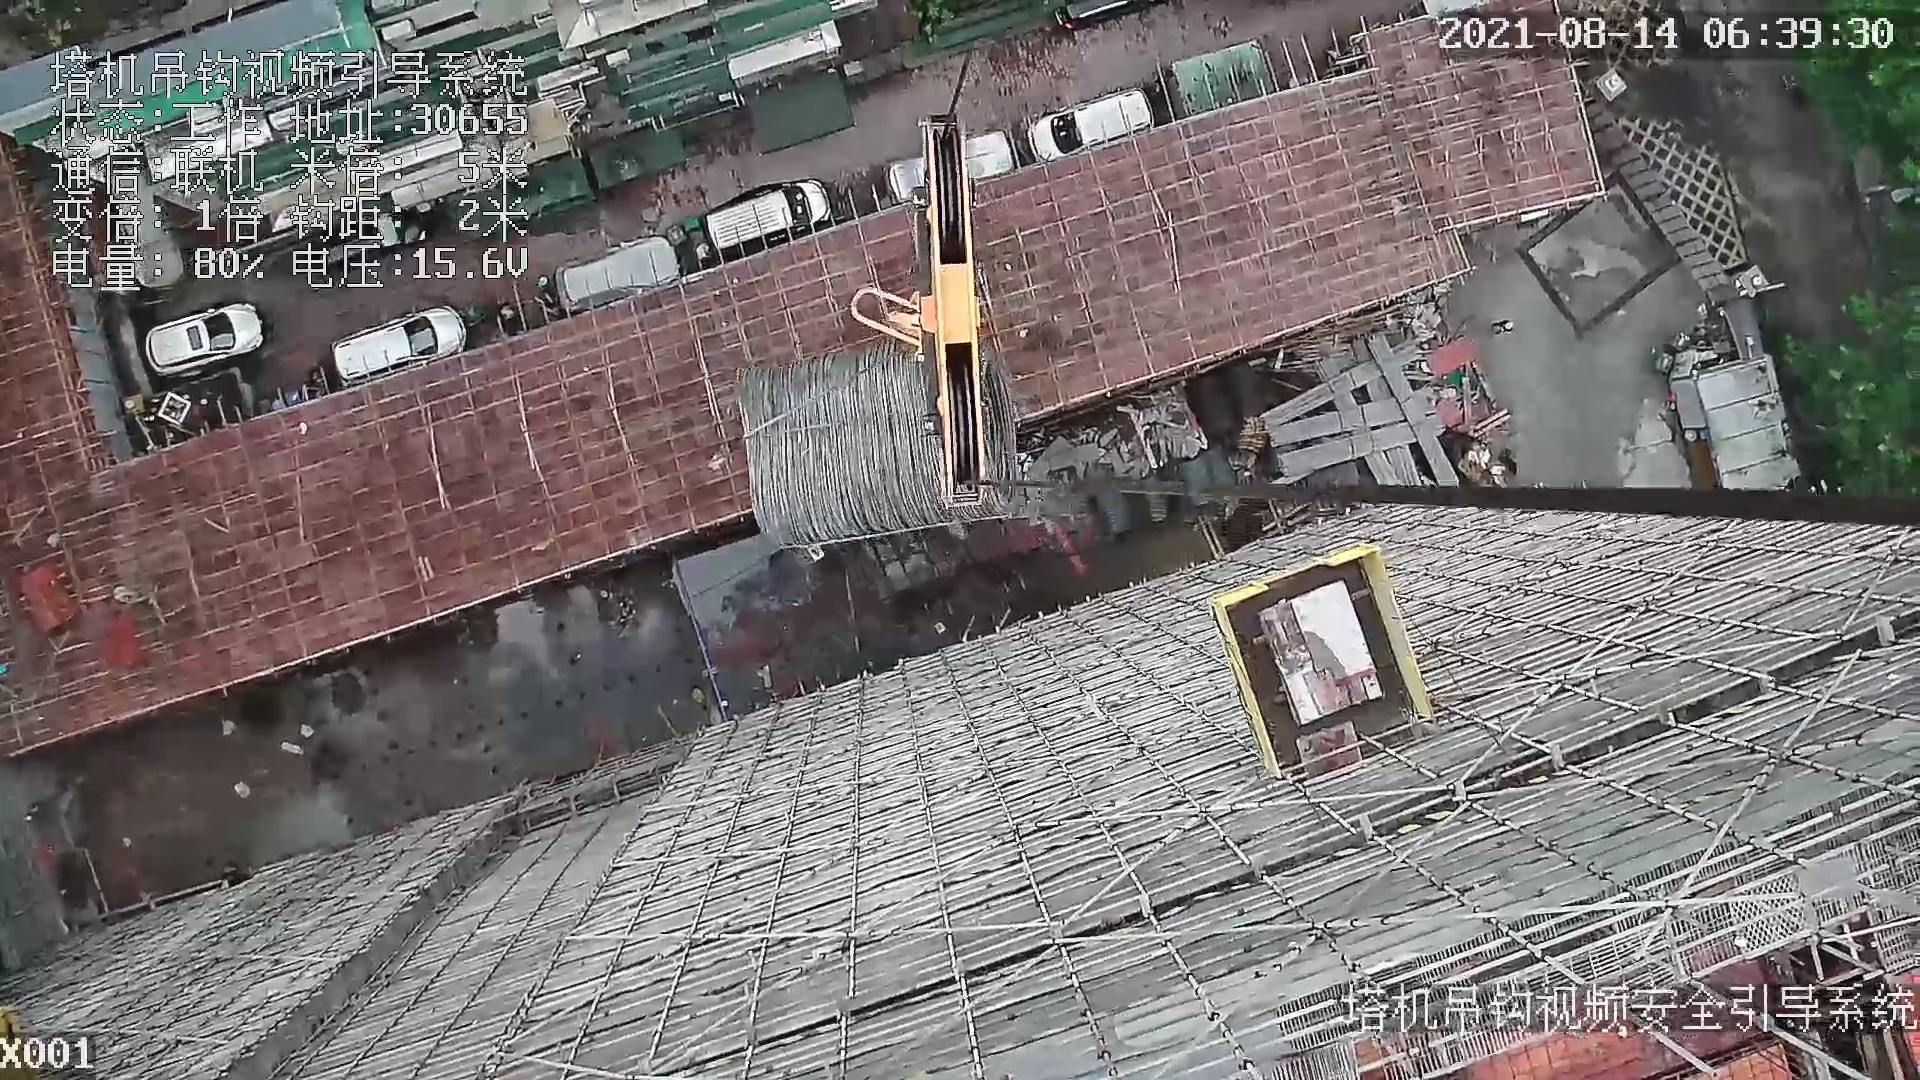hook: (849, 115, 996, 513)
